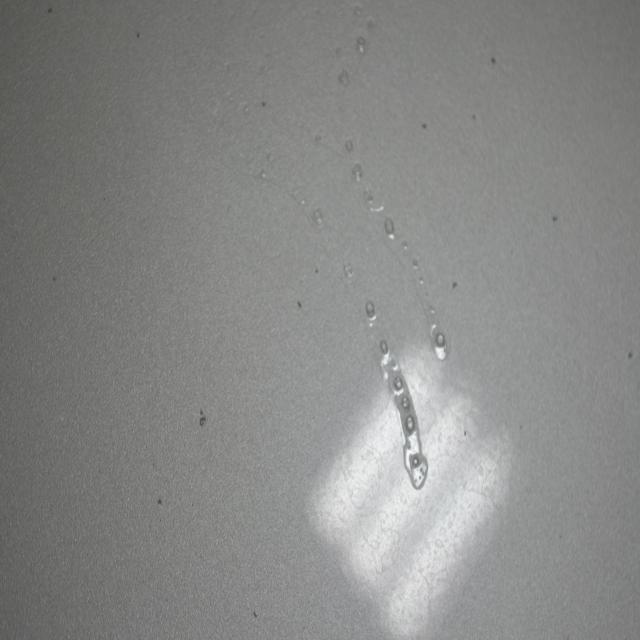dirt: (40, 0, 59, 17), (196, 405, 207, 429), (293, 294, 306, 312), (248, 604, 260, 623), (48, 271, 61, 286), (548, 210, 560, 226), (626, 348, 636, 364), (313, 264, 324, 277), (448, 278, 459, 291), (258, 96, 268, 110), (471, 109, 478, 124), (461, 426, 468, 440), (133, 29, 141, 40), (155, 495, 162, 507), (422, 117, 428, 128)
runs: (205, 3, 449, 495)
water marks: (443, 443, 506, 553), (400, 494, 460, 599), (341, 519, 408, 601), (324, 431, 387, 518), (394, 354, 439, 444)
